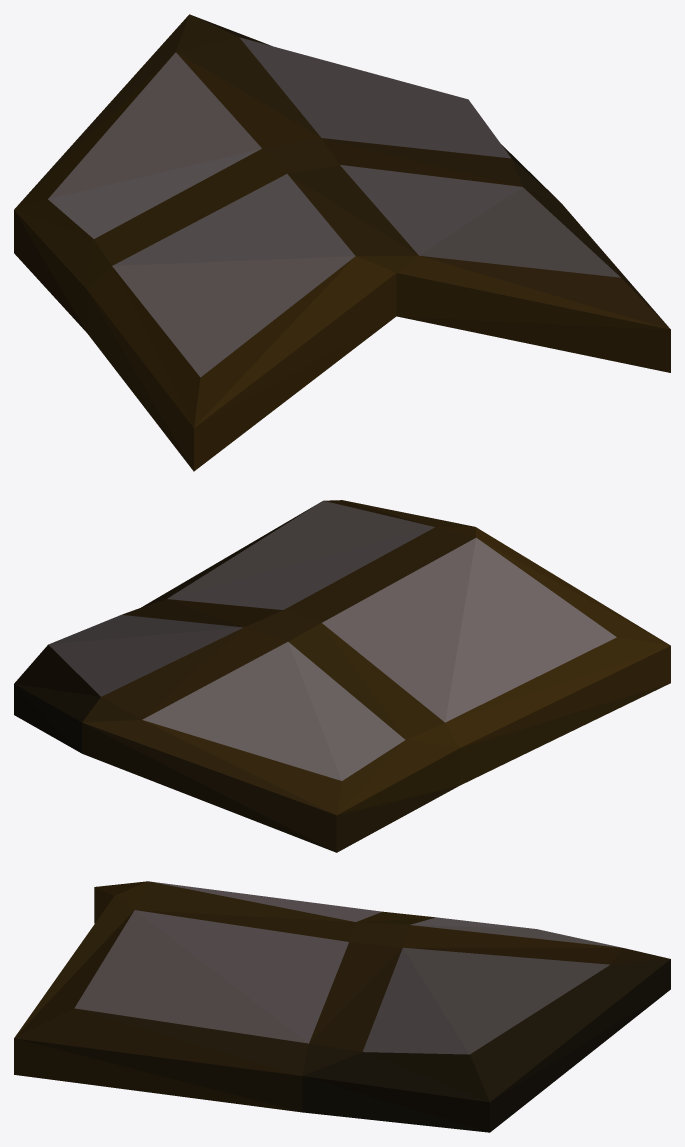
The model's file is steel-kiteshield.obj.
3 views of the same model, one above another, from view 1: azimuth 30°, elevation 25°; view 2: azimuth 150°, elevation 25°; view 3: azimuth 270°, elevation 25° (orthographic). The views are drawn at different scales.
Parts seen in each view (by area): view 1: Item Steel kiteshield 2026-09-24_18-12-46; view 2: Item Steel kiteshield 2026-09-24_18-12-46; view 3: Item Steel kiteshield 2026-09-24_18-12-46.
Boxes of the visible parts, x1=… form: Item Steel kiteshield 2026-09-24_18-12-46: x1=14, y1=14, x2=670, y2=471; Item Steel kiteshield 2026-09-24_18-12-46: x1=14, y1=500, x2=670, y2=852; Item Steel kiteshield 2026-09-24_18-12-46: x1=14, y1=881, x2=670, y2=1132.
Size of the model in its own units: 76 by 22 by 98.
